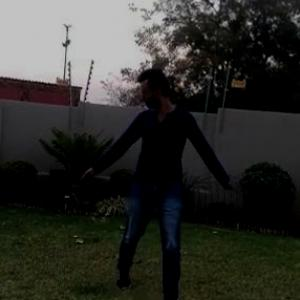land: (76, 59, 264, 299)
